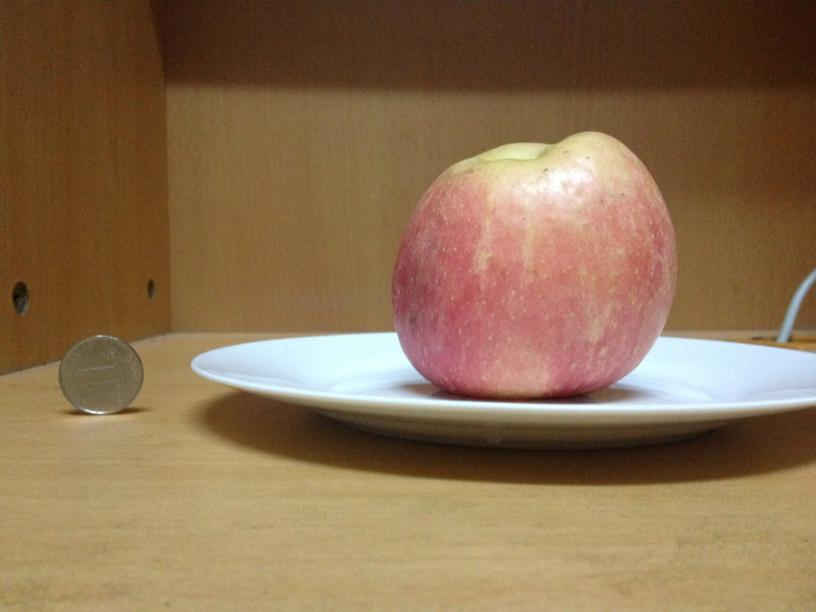apple: (392, 129, 679, 398)
coin: (56, 333, 144, 415)
